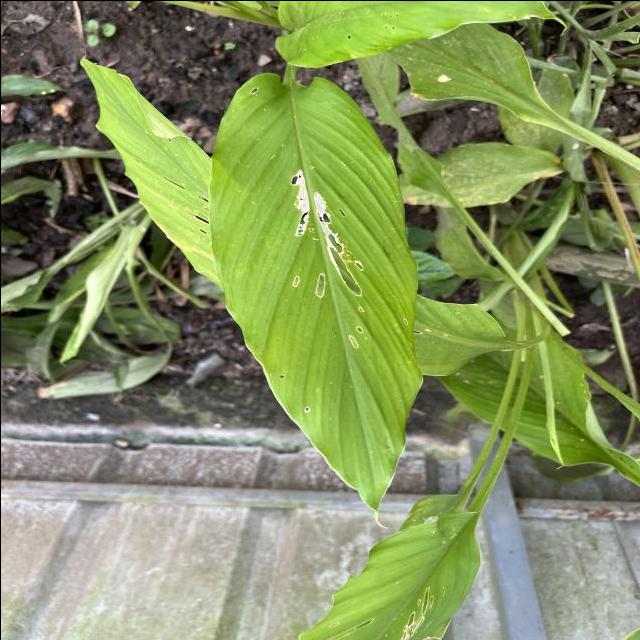Curcuma longa: (205, 66, 428, 535)
